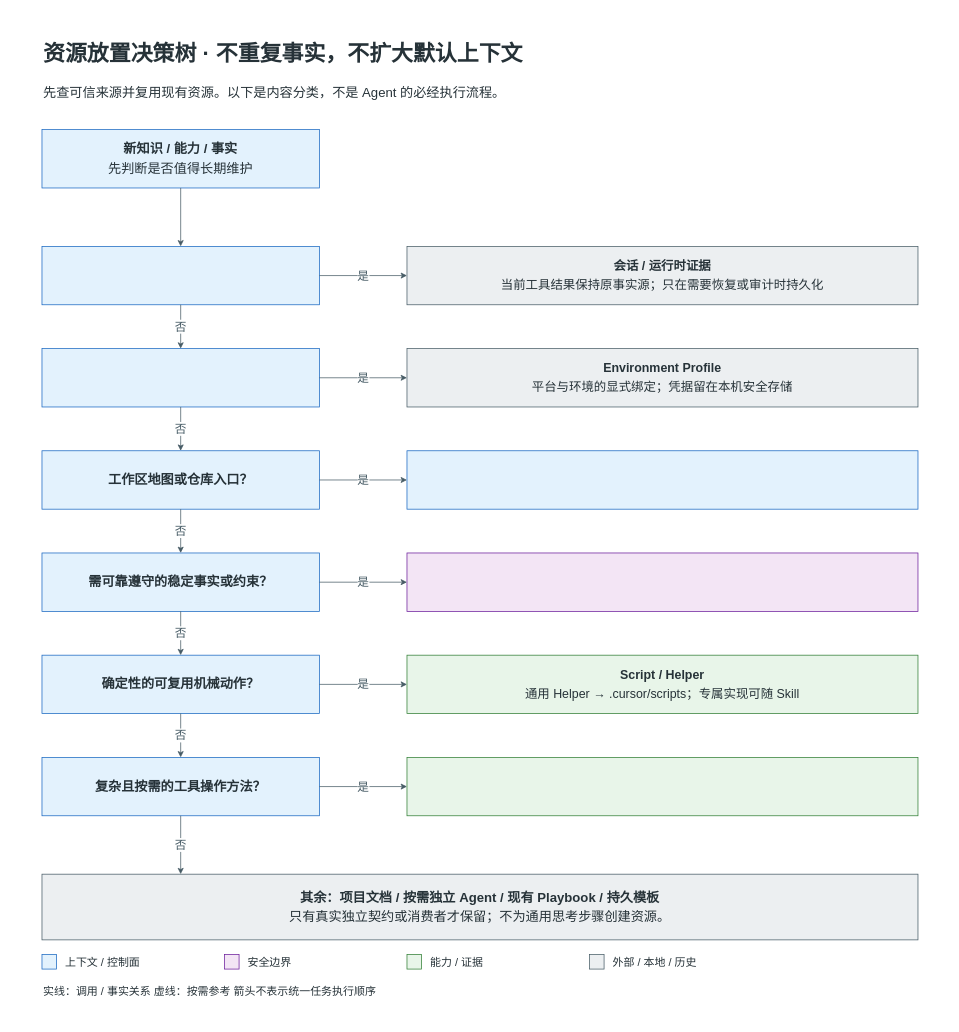
This 959x1032 diagram has some shape labels left out. The shapes that lost their labels are listed below. From the top down, each one's centre as x and y in pixels, then its label:
At (180,275): "一次性结果或临时状态？".
At (180,377): "本机环境目标或凭据引用？".
At (662,479): "Workspace / Repo AGENTS 项目入口与约定；不重复宿主级 Harness 入口".
At (662,581): "通用 Rule / 项目 Rule 通用约束 → rules；项目事实 → rules/projects/".
At (662,786): "Skill 规范 SKILL.md 描述方法、边界和证据；机械操作交给 Helper".
